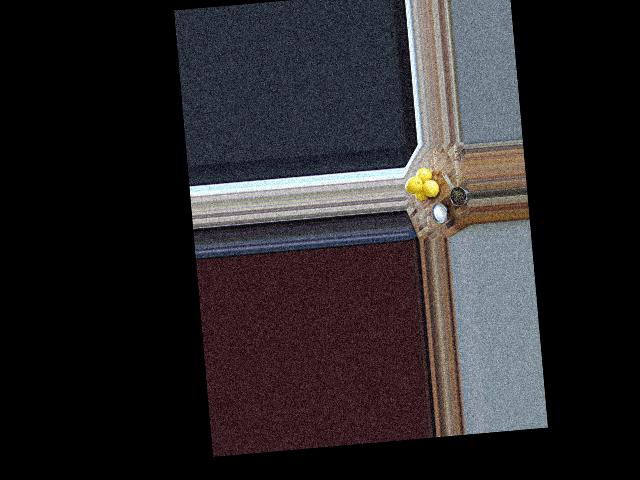lemon: (415, 188, 428, 202)
